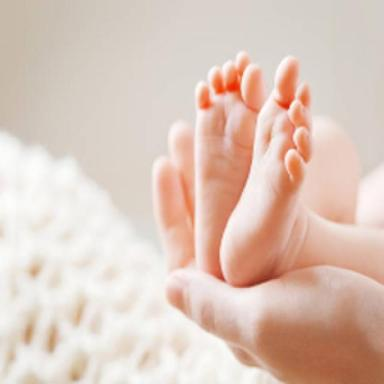normal skin: (154, 53, 384, 384)
